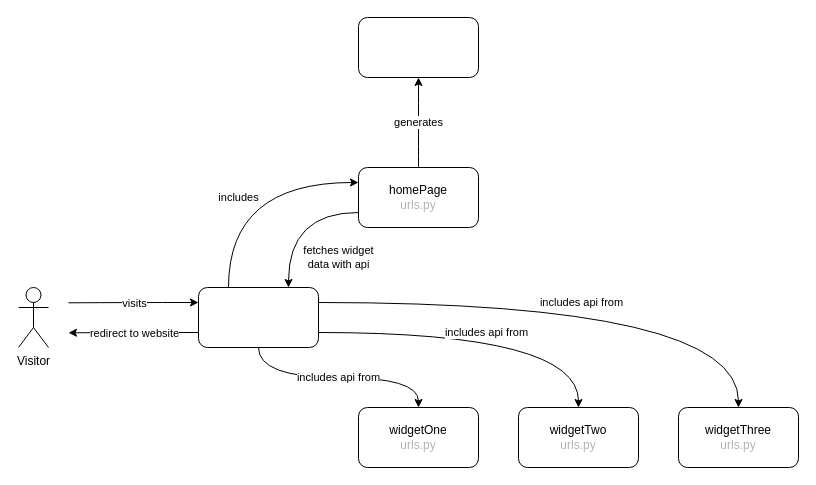
Image size: 816x485. Some labels were removed from this diagram. Here are the shapes that lost their labels. From the top down, the centre of each, then its label:
At point (418, 47): "homePage view".
At point (258, 317): "smartMirrorProject urls.py".
